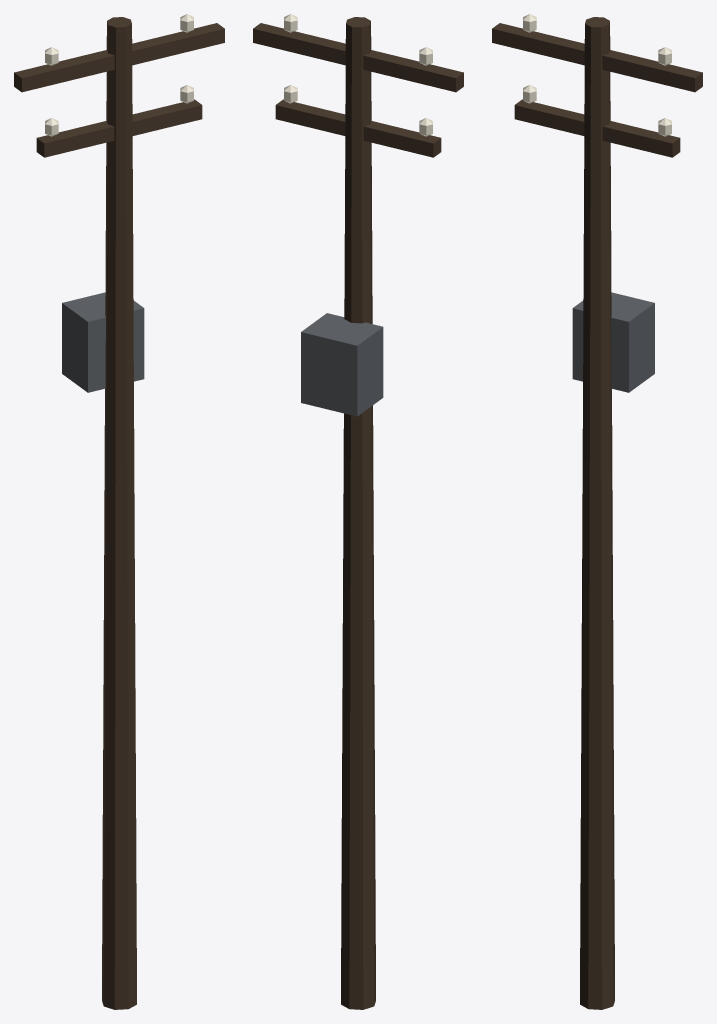
File: denchu.glb
3 views of the same model, side by side, from view 1: azimuth 30°, elevation 25°; view 2: azimuth 150°, elevation 25°; view 3: azimuth 330°, elevation 25° (orthographic).
Parts seen in each view (by area): view 1: denchu; view 2: denchu; view 3: denchu.
Part boxes in pixels (left/top/right/bottom): denchu: left=14, top=14, right=224, bottom=1009; denchu: left=253, top=14, right=463, bottom=1009; denchu: left=492, top=14, right=702, bottom=1009.
Bounding box in the file's own units: 1.8 × 8.3 × 0.59.
